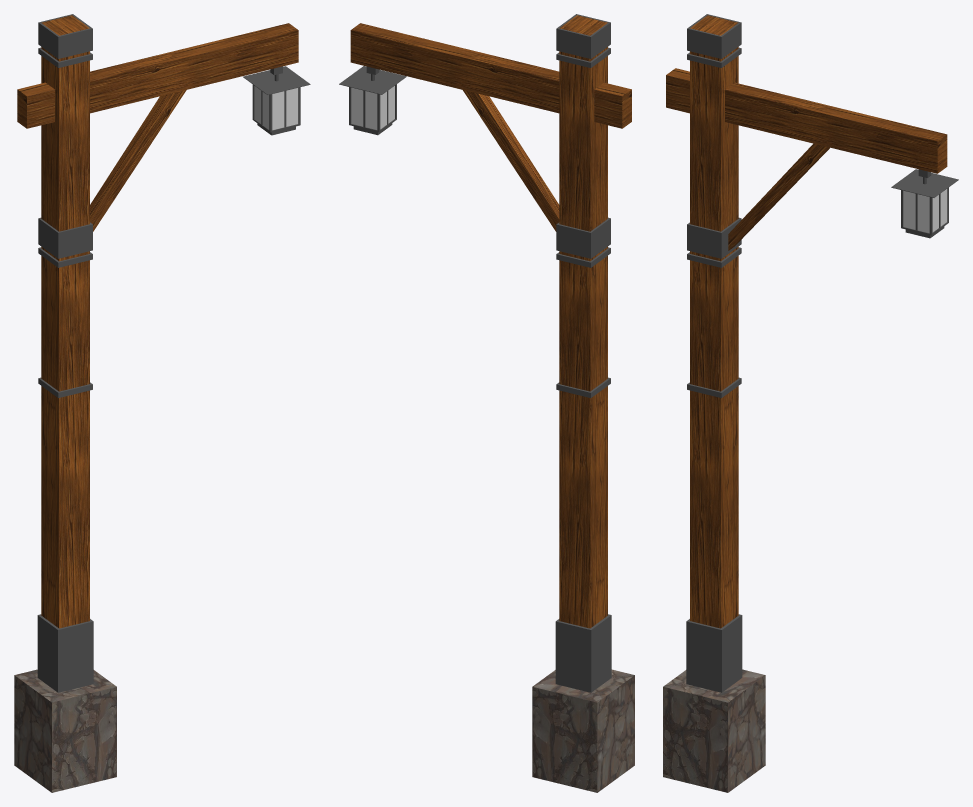
File: PosteCidade.fbx
3 renders of one model, left to right at view 1: azimuth 30°, elevation 25°; view 2: azimuth 150°, elevation 25°; view 3: azimuth 330°, elevation 25°, orthographic.
Visible parts, largest first — view 1: Cube.015, Cube.061, Cube.019; view 2: Cube.015, Cube.061, Cube.019; view 3: Cube.015, Cube.061, Cube.019.
Boxes of the visible parts, x1,y1,x2,y2 form: Cube.015: (14, 14, 298, 792); Cube.061: (243, 66, 310, 135); Cube.019: (254, 86, 298, 130); Cube.015: (350, 14, 634, 792); Cube.061: (339, 66, 406, 135); Cube.019: (351, 86, 394, 129); Cube.015: (663, 14, 947, 792); Cube.061: (891, 169, 958, 238); Cube.019: (903, 189, 947, 233).
Size of the model in its own units: 139 by 359 by 32.78.
